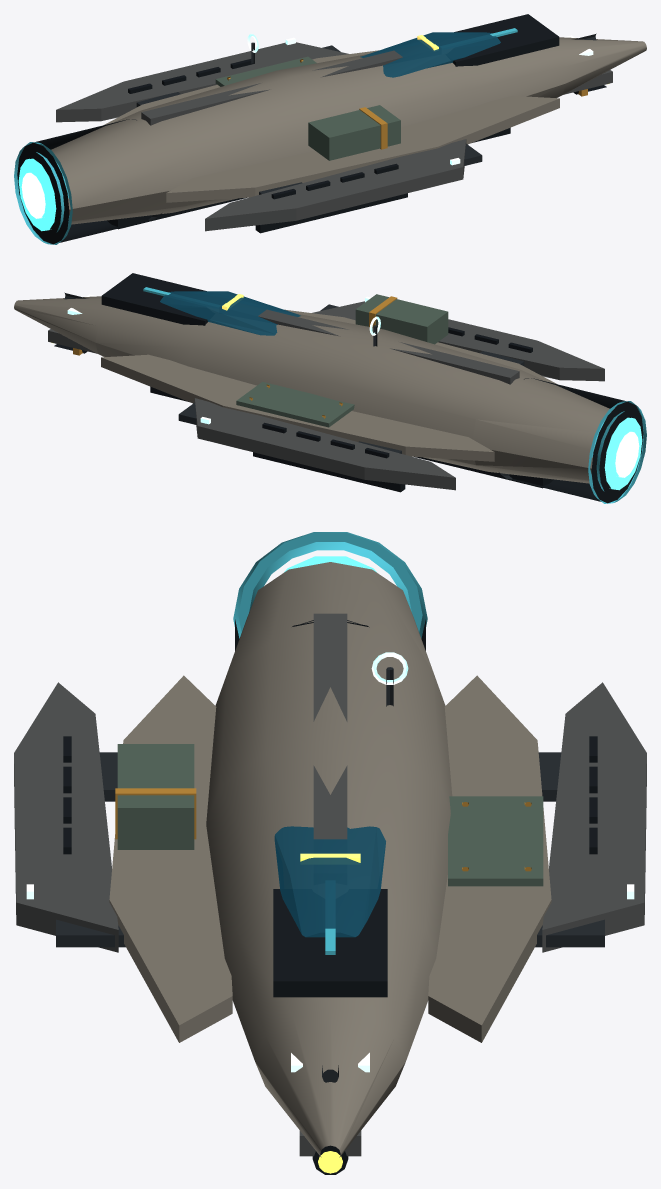
File: kestrel_reference.glb
3 views of the same model, one above another, from view 1: azimuth 30°, elevation 25°; view 2: azimuth 150°, elevation 25°; view 3: azimuth 270°, elevation 25° (orthographic). The views are drawn at different scales.
Parts seen in each view (by area): view 1: Kestrel_Pressure_Hull, Kestrel_Shoulder_Starboard, Kestrel_Radiator_Pod_Starboard, Kestrel_Radiator_Pod_Port, Kestrel_Utility_Pod_Starboard, Kestrel_Recessed_Canopy, Kestrel_Axial_Drive_Housing, Kestrel_Armored_Brow, Kestrel_Dorsal_Spine, Kestrel_Drive_Fan, Kestrel_Drive_Aft_Ring, Kestrel_Drive_Core (+6 smaller); view 2: Kestrel_Pressure_Hull, Kestrel_Shoulder_Port, Kestrel_Radiator_Pod_Port, Kestrel_Radiator_Pod_Starboard, Kestrel_Recessed_Canopy, Kestrel_Axial_Drive_Housing, Kestrel_Field_Repair_Port, Kestrel_Utility_Pod_Starboard, Kestrel_Armored_Brow, Kestrel_Dorsal_Spine, Kestrel_Drive_Fan, Kestrel_Drive_Aft_Ring (+5 smaller); view 3: Kestrel_Pressure_Hull, Kestrel_Shoulder_Starboard, Kestrel_Shoulder_Port, Kestrel_Radiator_Pod_Port, Kestrel_Radiator_Pod_Starboard, Kestrel_Recessed_Canopy, Kestrel_Field_Repair_Port, Kestrel_Armored_Brow, Kestrel_Utility_Pod_Starboard, Kestrel_Dorsal_Spine, Kestrel_Drive_Aft_Ring, Kestrel_Shoulder_Strut_Fore_Port (+3 smaller).
Boxes of the visible parts, x1,y1,x2,y2 form: Kestrel_Pressure_Hull: (51,37,646,224); Kestrel_Shoulder_Starboard: (166,95,559,202); Kestrel_Radiator_Pod_Starboard: (205,139,466,231); Kestrel_Radiator_Pod_Port: (56,42,348,122); Kestrel_Utility_Pod_Starboard: (308,105,400,160); Kestrel_Recessed_Canopy: (360,32,500,77); Kestrel_Axial_Drive_Housing: (17,119,149,244); Kestrel_Armored_Brow: (453,14,559,66); Kestrel_Dorsal_Spine: (141,50,402,125); Kestrel_Drive_Fan: (18,158,56,231); Kestrel_Drive_Aft_Ring: (14,142,72,244); Kestrel_Drive_Core: (21,172,45,218); Kestrel_Pressure_Hull: (14,296,609,483); Kestrel_Shoulder_Port: (101,354,494,461); Kestrel_Radiator_Pod_Port: (194,398,455,490); Kestrel_Radiator_Pod_Starboard: (312,301,604,381); Kestrel_Recessed_Canopy: (160,291,300,335); Kestrel_Axial_Drive_Housing: (511,378,643,503); Kestrel_Field_Repair_Port: (236,381,354,427); Kestrel_Utility_Pod_Starboard: (355,294,448,344); Kestrel_Armored_Brow: (101,273,207,325); Kestrel_Dorsal_Spine: (258,309,519,384); Kestrel_Drive_Fan: (604,417,642,490); Kestrel_Drive_Aft_Ring: (588,401,646,503); Kestrel_Pressure_Hull: (206,562,452,1157); Kestrel_Shoulder_Starboard: (109,675,232,1042); Kestrel_Shoulder_Port: (428,675,551,1042); Kestrel_Radiator_Pod_Port: (542,682,646,952); Kestrel_Radiator_Pod_Starboard: (14,682,118,952); Kestrel_Recessed_Canopy: (274,826,385,937); Kestrel_Field_Repair_Port: (448,796,543,886); Kestrel_Armored_Brow: (273,889,387,997); Kestrel_Utility_Pod_Starboard: (117,744,194,849); Kestrel_Dorsal_Spine: (313,613,347,839); Kestrel_Drive_Aft_Ring: (233,532,427,638); Kestrel_Shoulder_Strut_Fore_Port: (535,919,604,947).
Size of the model in its own units: 27.69 by 6.49 by 13.6.
